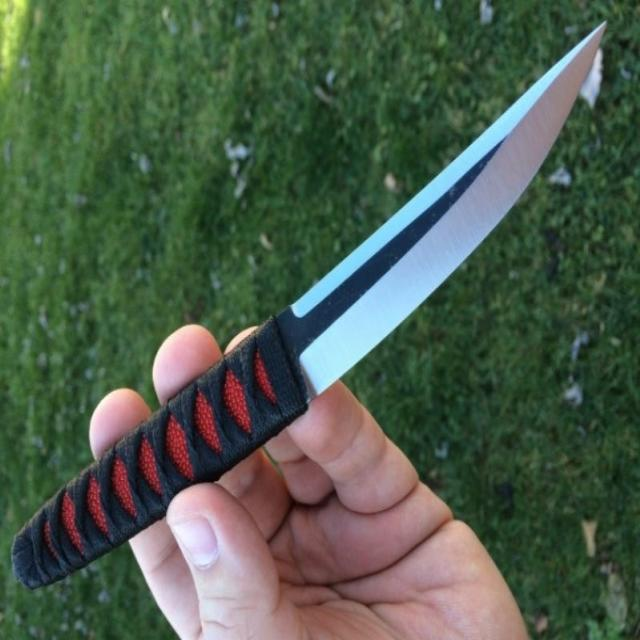knife: (15, 24, 615, 607)
